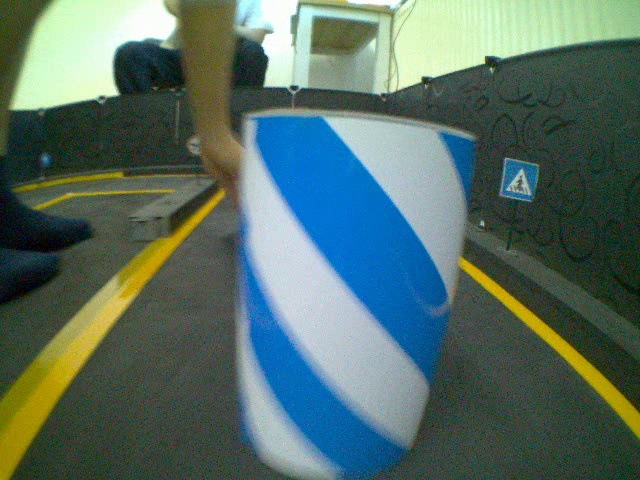bucket: (239, 109, 454, 480)
